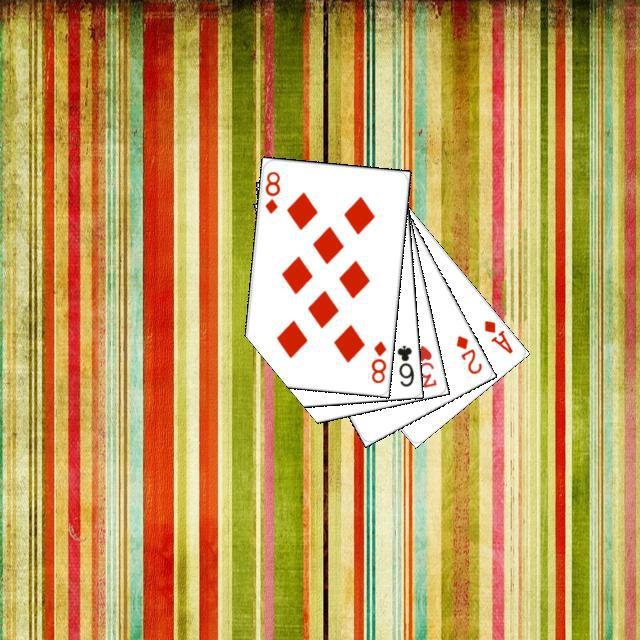2d: (451, 330, 484, 376)
3h: (412, 340, 438, 389)
6c: (392, 340, 416, 388)
8d: (366, 336, 388, 385), (260, 166, 282, 215)
Ad: (479, 315, 515, 356)
